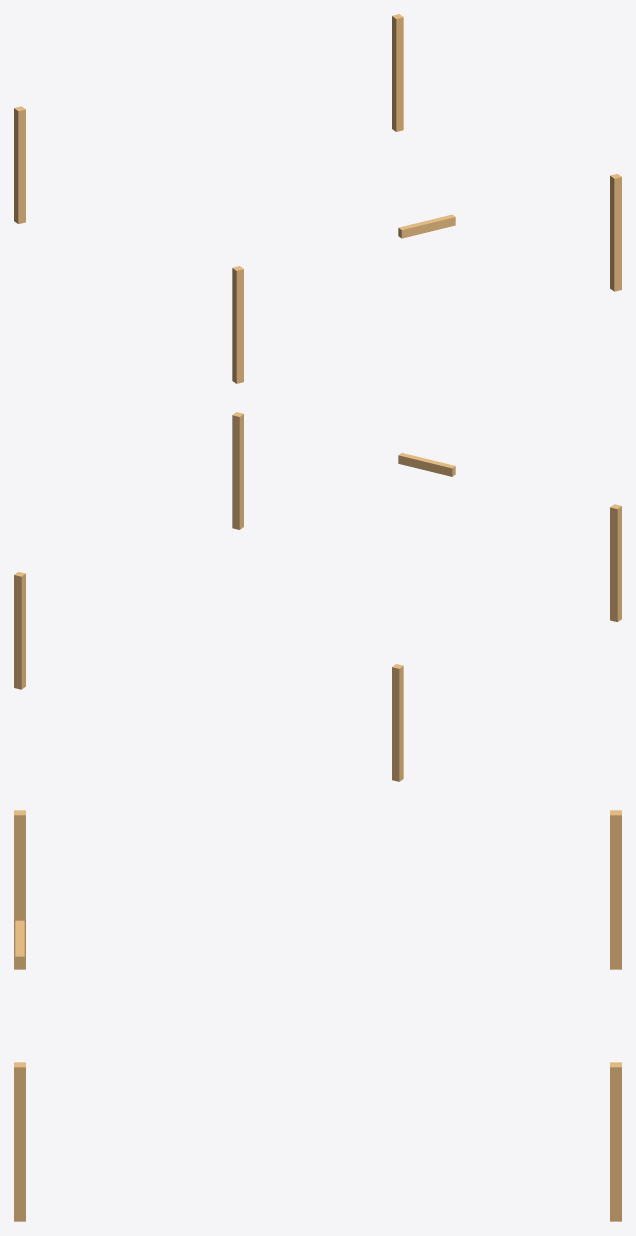
The model's file is accent-4.glb.
3 renders of one model, top to bottom at view 1: azimuth 30°, elevation 25°; view 2: azimuth 150°, elevation 25°; view 3: azimuth 270°, elevation 25°, orthographic. The views are drawn at different scales.
Parts seen in each view (by area): view 1: accent-4; view 2: accent-4; view 3: accent-4.
Boxes of the visible parts, x1,y1,x2,y2 form: accent-4: [14, 14, 621, 383]; accent-4: [14, 412, 621, 781]; accent-4: [14, 810, 621, 1221].
Bounding box in the file's own units: 14.28 × 4 × 14.28.
1 material, 1 textured.
